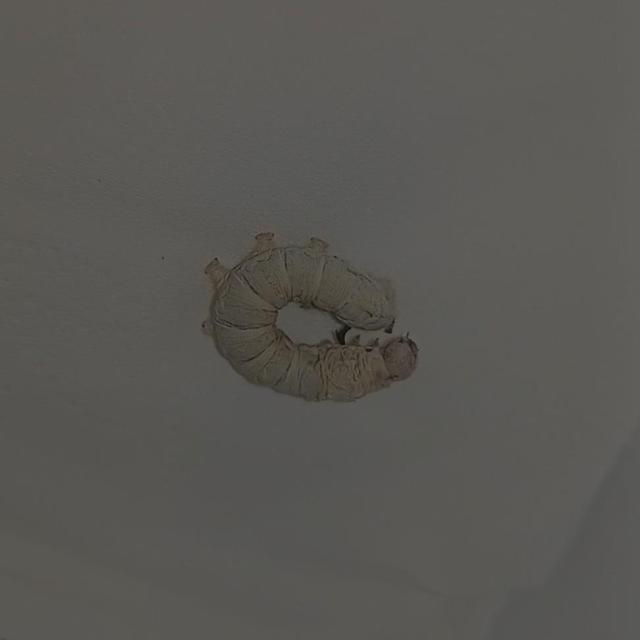Healthy: (181, 181, 445, 443)
